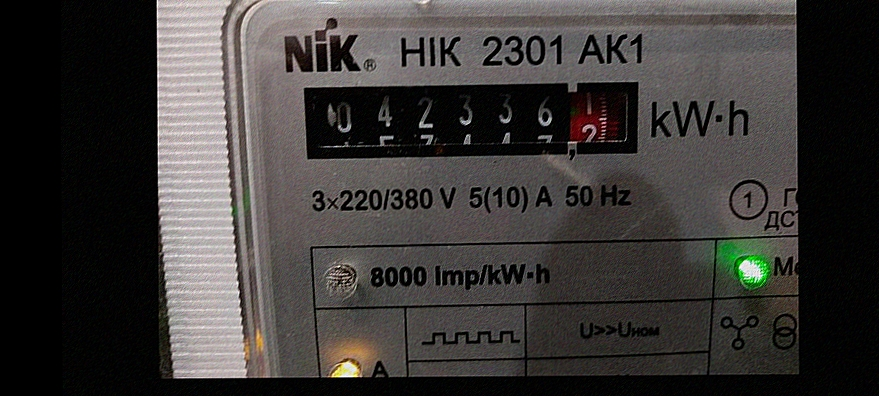0: (333, 97, 354, 133)
1: (581, 87, 595, 116)
2: (414, 93, 435, 129), (579, 121, 598, 142)
3: (455, 89, 475, 127), (493, 88, 514, 124)
4: (374, 90, 394, 127)
6: (532, 91, 555, 126)
screen: (295, 70, 648, 166)
